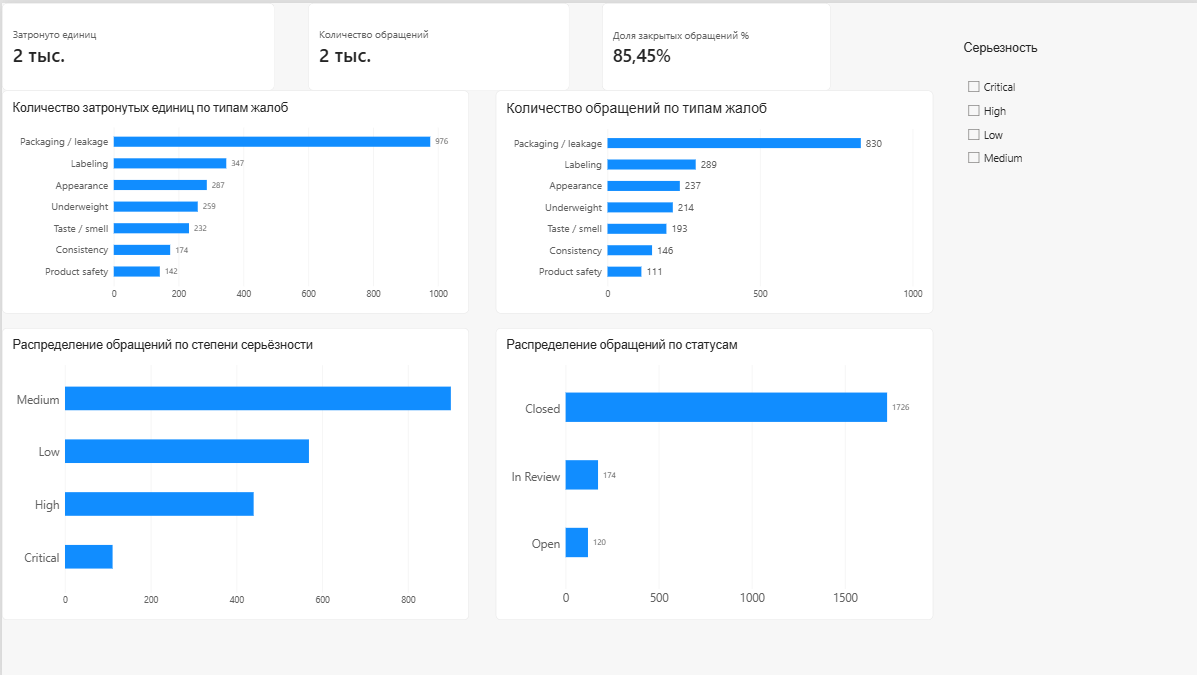

The page's visual inventory and layout, read from the dashboard file:
{"tool":"powerbi","page":{"name":"Обращения клиентов","canvas":[1920,1080],"ordinal":3},"visuals":[{"type":"cardVisual","fields":{"Data":["fact_complaints.Затронуто единиц"]},"box":[0,0,436,140],"z":0},{"type":"cardVisual","fields":{"Data":["fact_complaints.Количество обращений"]},"box":[490,0,418,140],"z":1000},{"type":"clusteredBarChart","title":"Количество обращений по типам жалоб","fields":{"Category":["fact_complaints.complaint_type"],"Y":["fact_complaints.Количество обращений"]},"box":[790.8,139.3,700.3,356.5],"z":2000},{"type":"clusteredBarChart","title":"Количество затронутых единиц по типам жалоб","fields":{"Category":["fact_complaints.complaint_type"],"Y":["fact_complaints.Затронуто единиц"]},"box":[0,139.3,747.4,356.5],"z":3000},{"type":"clusteredBarChart","title":"Распределение обращений по статусам","fields":{"Category":["fact_complaints.status"],"Y":["fact_complaints.Количество обращений"]},"box":[790.8,519.4,700.3,466.9],"z":4000},{"type":"clusteredBarChart","title":"Распределение обращений по степени серьёзности","fields":{"Category":["fact_complaints.severity"],"Y":["fact_complaints.Количество обращений"]},"box":[0,519.4,747.4,466.9],"z":5000},{"type":"slicer","title":"Серьезность","fields":{"Values":["fact_complaints.severity"]},"box":[1538.3,60,365,291.7],"z":6000},{"type":"cardVisual","fields":{"Data":["fact_complaints.Доля закрытых обращений %"]},"box":[960,0,366,140],"z":6001}]}

Visuals, with their boxes in screenshot pixels (x1, y1, x2, y2), scaled from the page's 1920x1080 canvas onto the 1197x675 screenshot:
cardVisual - fact_complaints.Затронуто единиц: [0, 0, 272, 88]
cardVisual - fact_complaints.Количество обращений: [305, 0, 566, 88]
"Количество обращений по типам жалоб" clusteredBarChart: [493, 87, 930, 310]
"Количество затронутых единиц по типам жалоб" clusteredBarChart: [0, 87, 466, 310]
"Распределение обращений по статусам" clusteredBarChart: [493, 325, 930, 616]
"Распределение обращений по степени серьёзности" clusteredBarChart: [0, 325, 466, 616]
"Серьезность" slicer: [959, 38, 1187, 220]
cardVisual - fact_complaints.Доля закрытых обращений %: [598, 0, 827, 88]
